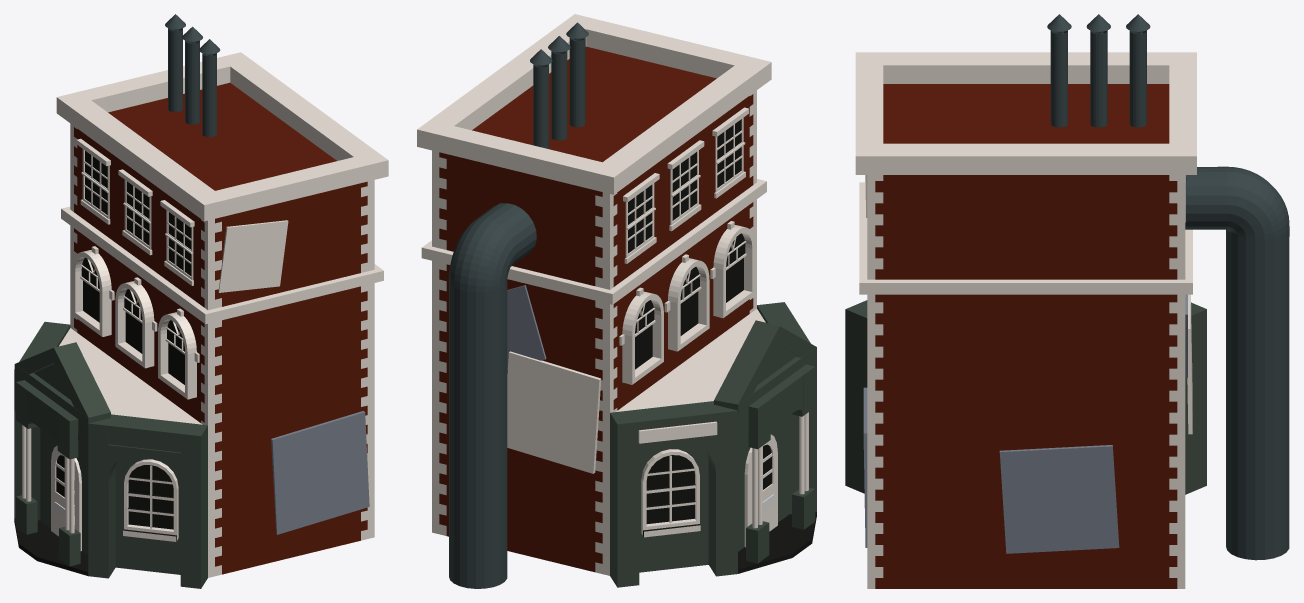
File: House1.fbx
The picture shows the model from 3 angles, left to right: view 1: azimuth 30°, elevation 25°; view 2: azimuth 150°, elevation 25°; view 3: azimuth 270°, elevation 25°; orthographic projection. The views are drawn at different scales.
Parts seen in each view (by area): view 1: Main, Arch, Mainside1, Plane.003, Cube.010, Cube.007, Cube.003, Cylinder.001, Slicetriangle.002, Plane.002, Cube.008, Cube.005 (+6 smaller); view 2: Main, Cylinder.002, Arch, Mainside1, Cube.010, Plane.001, Cube.007, Cylinder.001, Slicetriangle.002, Cube.003, Cube.008, Cube.005 (+8 smaller); view 3: Main, Cylinder.002, Plane.004, Arch, Cube.003, Cylinder.001, Plane.003, Plane.001.
Part boxes in pixels (x1,y1,x2,y2): Main: (56, 52, 388, 577); Arch: (14, 321, 207, 588); Mainside1: (40, 328, 202, 574); Plane.003: (271, 411, 369, 534); Cube.010: (72, 246, 199, 399); Cube.007: (76, 138, 194, 285); Cube.003: (61, 206, 383, 324); Cylinder.001: (165, 14, 220, 137); Slicetriangle.002: (14, 342, 110, 426); Plane.002: (218, 220, 288, 292); Cube.008: (123, 459, 178, 541); Cube.005: (14, 373, 88, 464); Main: (417, 14, 771, 575); Cylinder.002: (449, 203, 536, 588); Arch: (610, 302, 816, 587); Mainside1: (616, 309, 789, 572); Cube.010: (619, 221, 754, 384); Plane.001: (507, 351, 601, 473); Cube.007: (623, 107, 748, 263); Cylinder.001: (530, 22, 588, 148); Slicetriangle.002: (714, 320, 816, 413); Cube.003: (421, 179, 766, 304); Cube.008: (641, 449, 700, 537); Cube.005: (738, 356, 816, 454); Main: (855, 52, 1196, 588); Cylinder.002: (1185, 166, 1289, 560); Plane.004: (999, 445, 1119, 553); Arch: (845, 300, 1206, 494); Cube.003: (859, 182, 1192, 294); Cylinder.001: (1047, 14, 1150, 127); Plane.003: (863, 387, 867, 547); Plane.001: (1187, 294, 1192, 434).
Bounding box in the file's own units: 1397 × 1204 × 1836.
